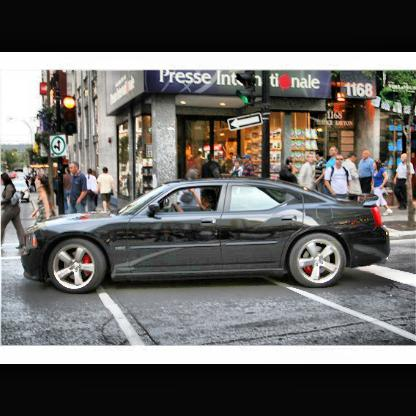Dodge Charger SRT-8 2009: (21, 179, 393, 298)
